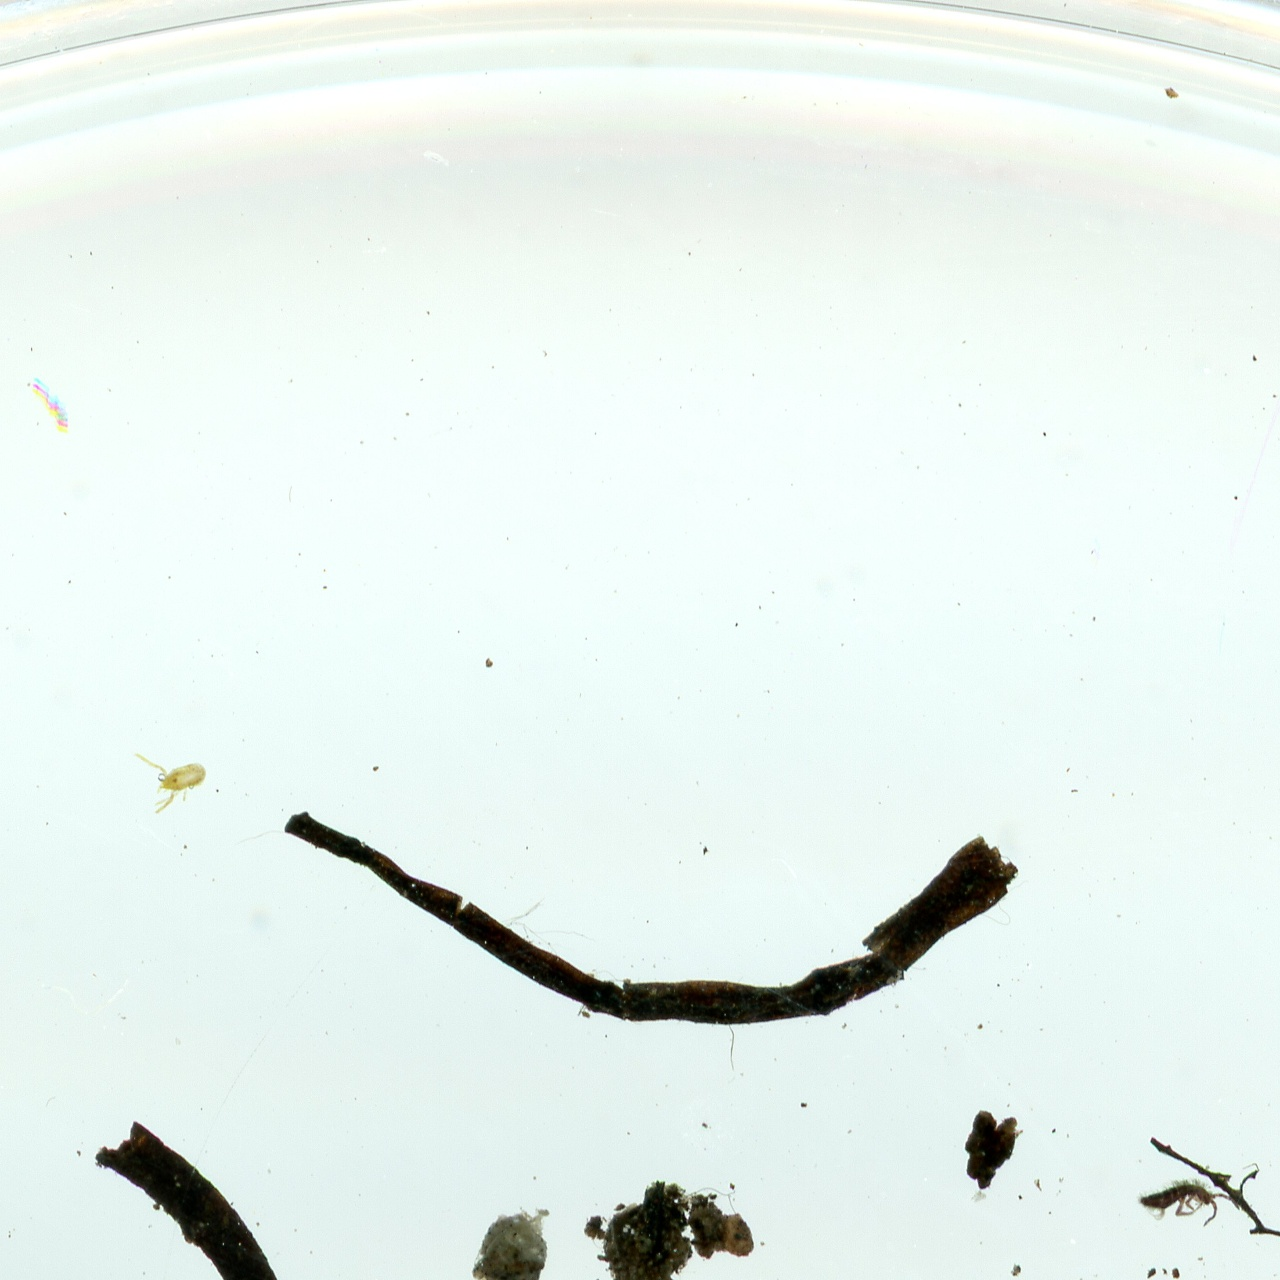arthropod: (127, 734, 220, 822), (1136, 1180, 1230, 1224)
